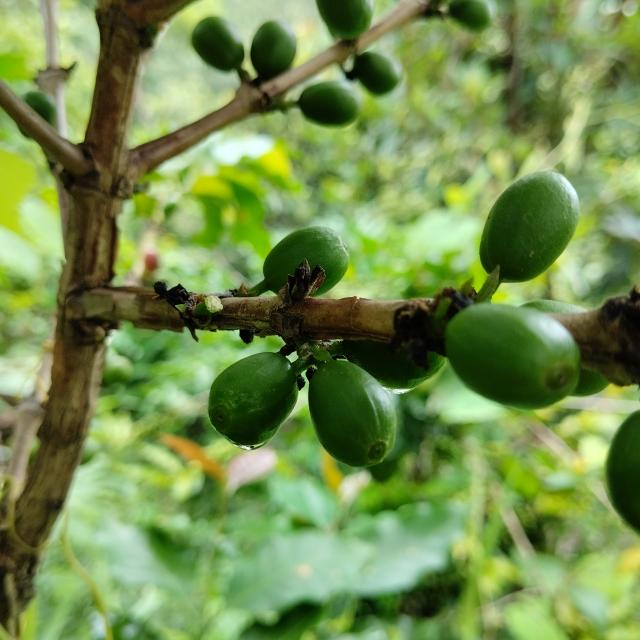green: (446, 303, 581, 409), (480, 170, 581, 282), (308, 360, 397, 467), (208, 352, 299, 450), (263, 226, 349, 296), (298, 80, 362, 125)
